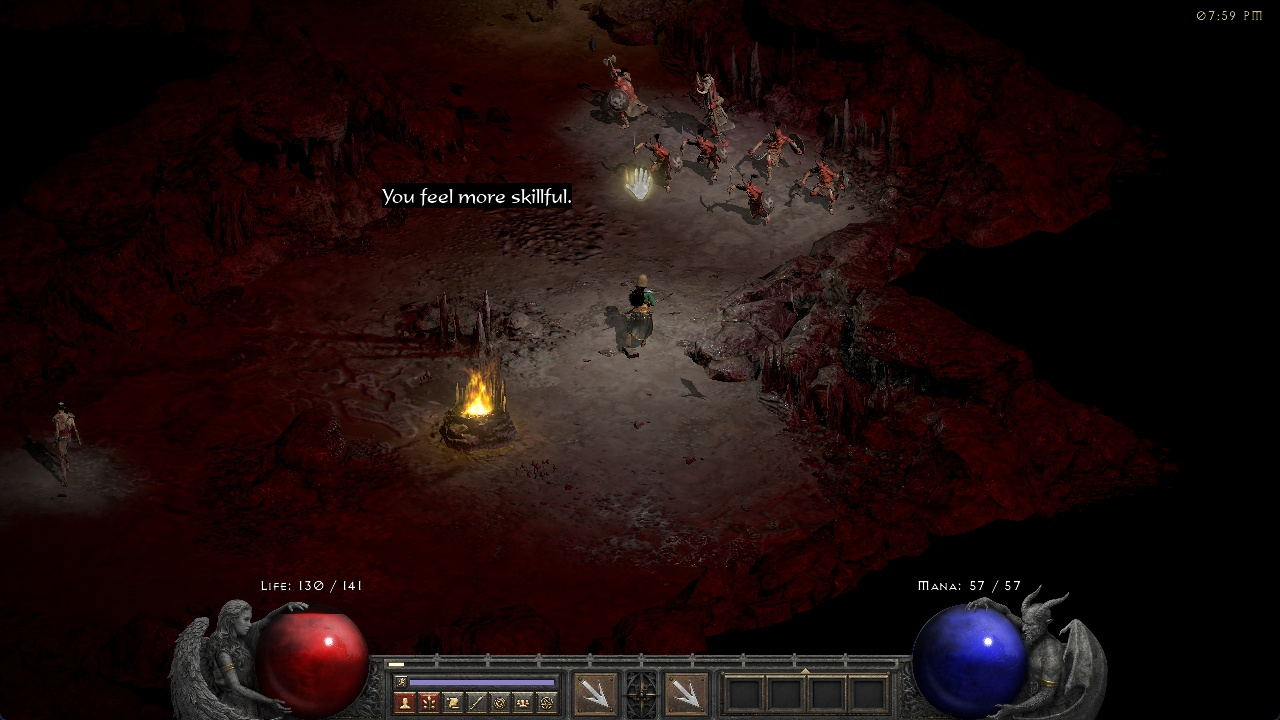fallen: (601, 58, 651, 122), (801, 157, 851, 209), (632, 136, 679, 188), (729, 172, 773, 226), (750, 127, 802, 172), (682, 132, 726, 182)
